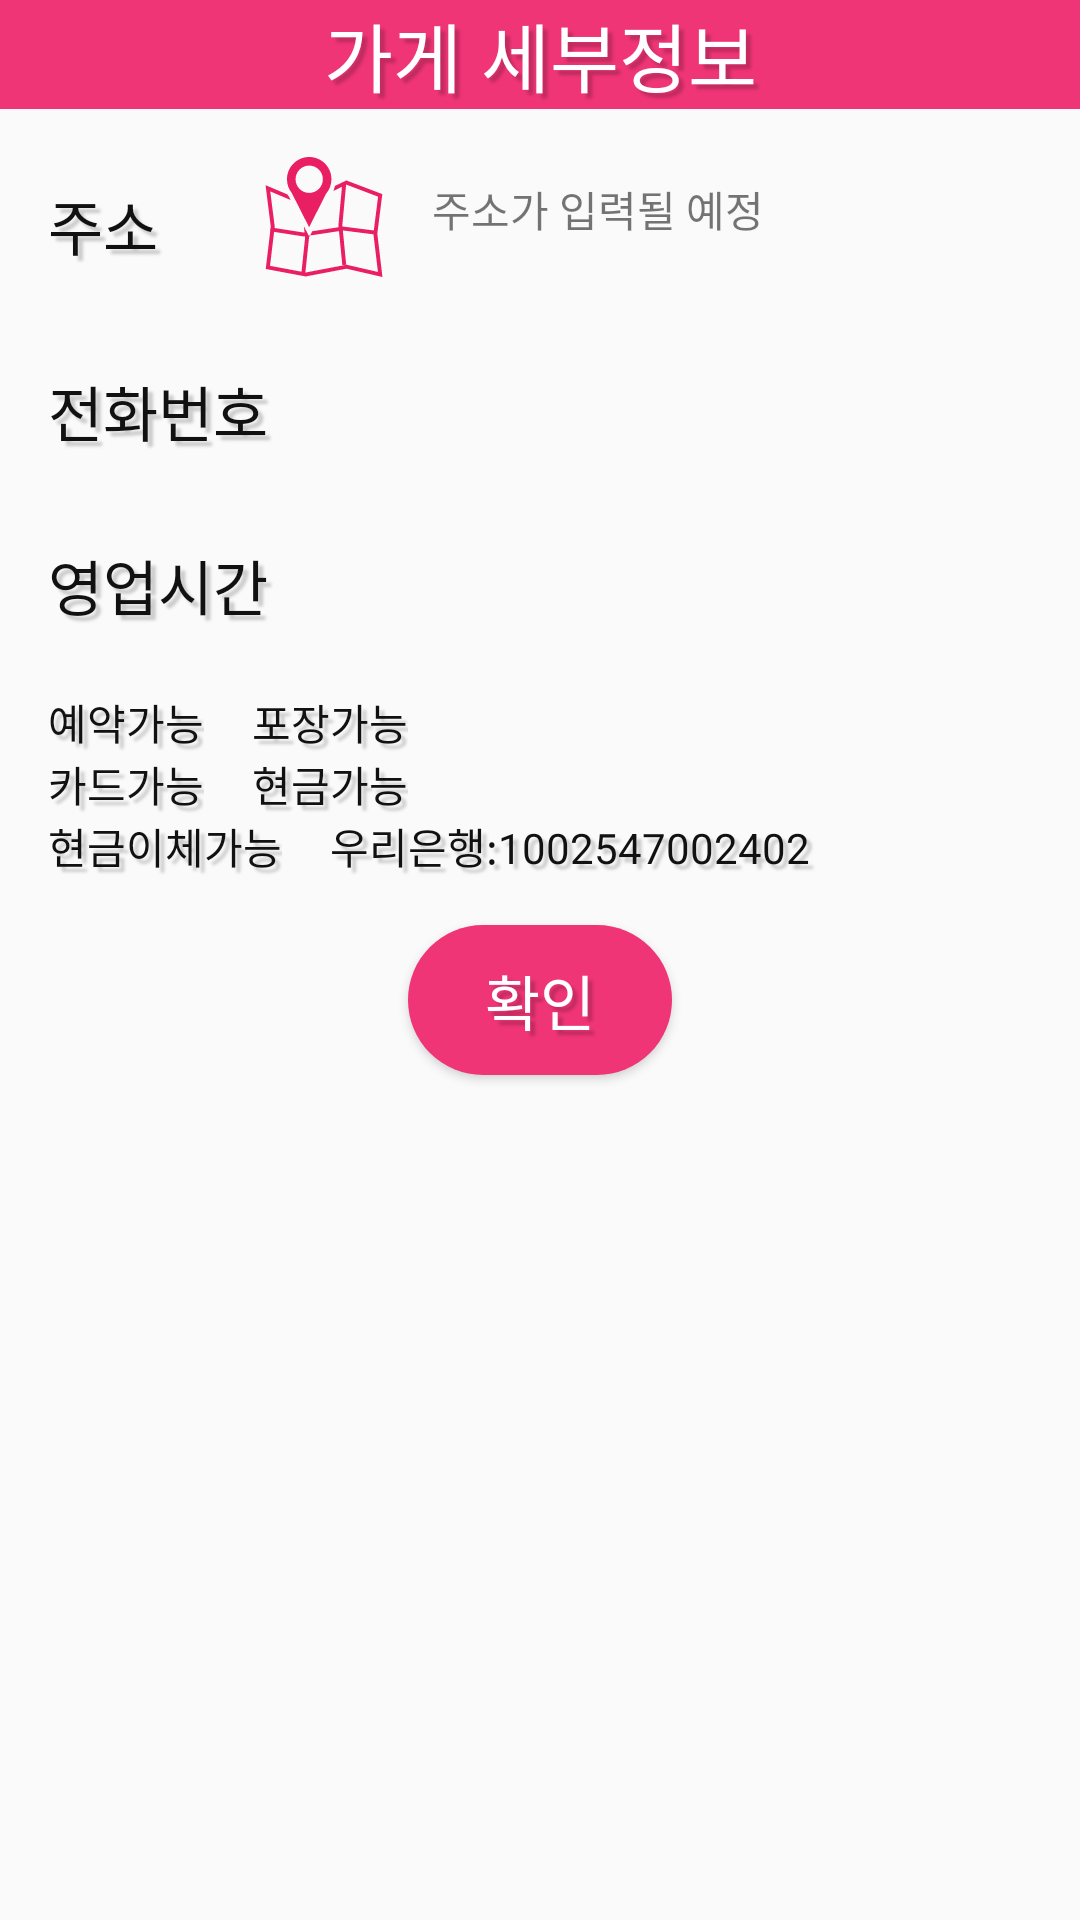

Icons on this 1080*1920 Android screen, each with the point to tap as point (x, y):
map: point (324, 217)
